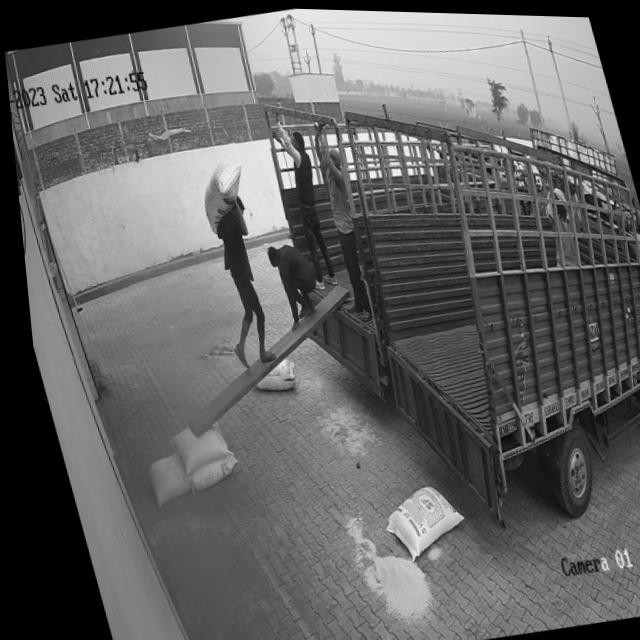sack: (366, 476, 463, 562), (187, 155, 252, 235), (158, 419, 222, 471), (133, 449, 184, 506), (175, 449, 232, 491), (239, 354, 294, 395)
